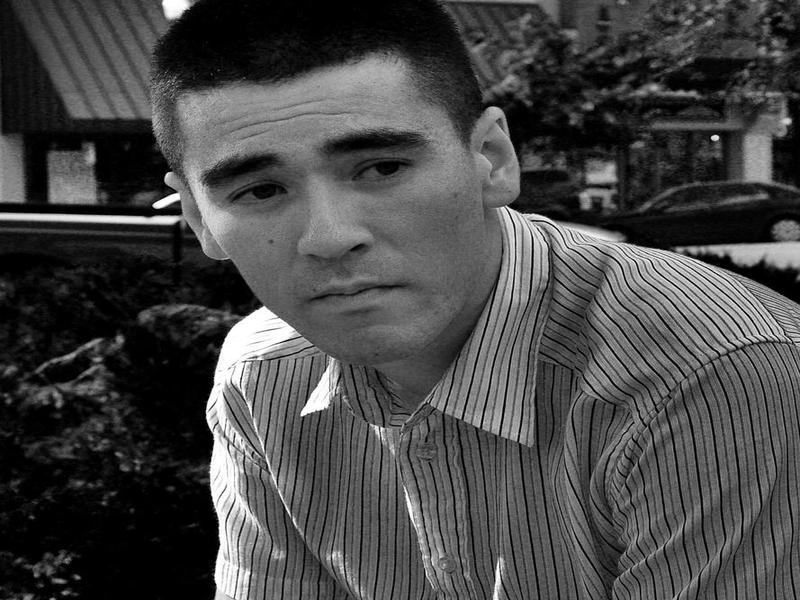person: (150, 1, 797, 600)
